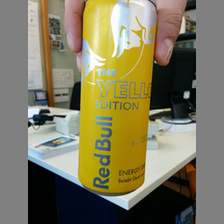soda: (80, 1, 158, 195)
